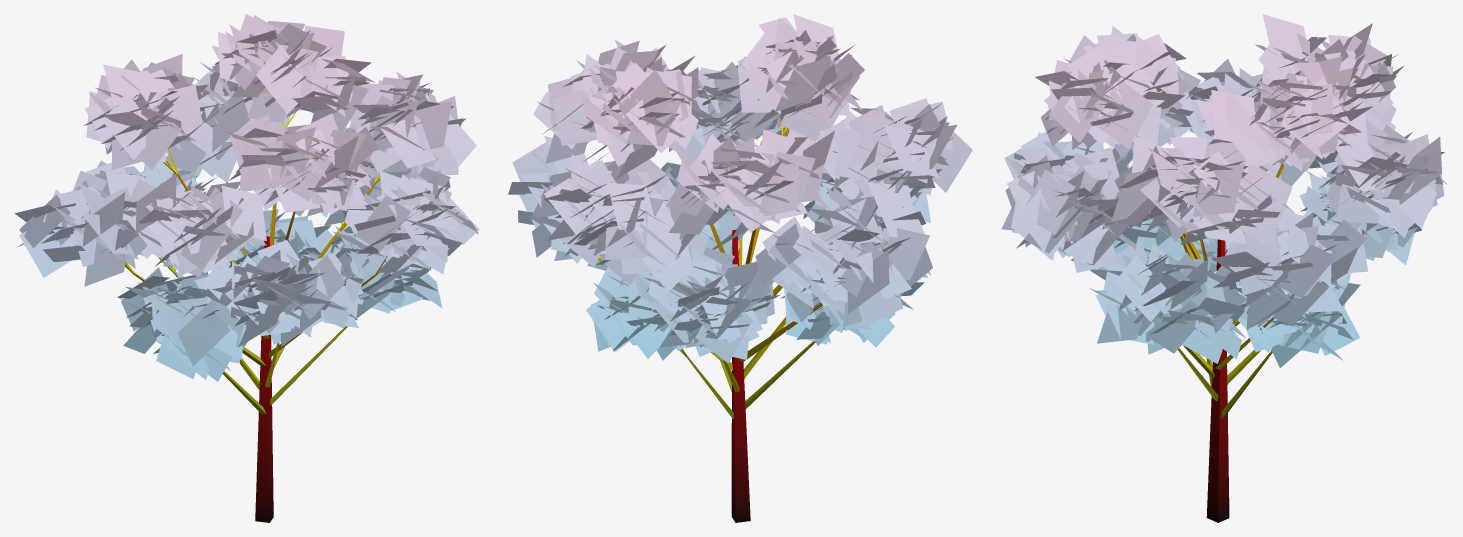
The model's file is sycamore-lod1.glb.
3 renders of one model, left to right at view 1: azimuth 30°, elevation 25°; view 2: azimuth 150°, elevation 25°; view 3: azimuth 270°, elevation 25°, orthographic. The views are drawn at different scales.
Parts seen in each view (by area): view 1: sycamore canopy, sycamore trunk and branches; view 2: sycamore canopy, sycamore trunk and branches; view 3: sycamore canopy, sycamore trunk and branches.
Part boxes in pixels (x1,y1,x2,y2): sycamore canopy: (15,14,479,381); sycamore trunk and branches: (125,91,387,522); sycamore canopy: (508,14,972,363); sycamore trunk and branches: (598,123,822,522); sycamore canopy: (1001,14,1447,368); sycamore trunk and branches: (1132,142,1284,522).
Bounding box in the file's own units: 13.76 × 14.92 × 12.61.
